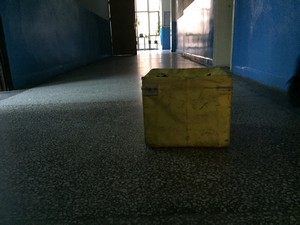cube: (139, 69, 234, 150)
